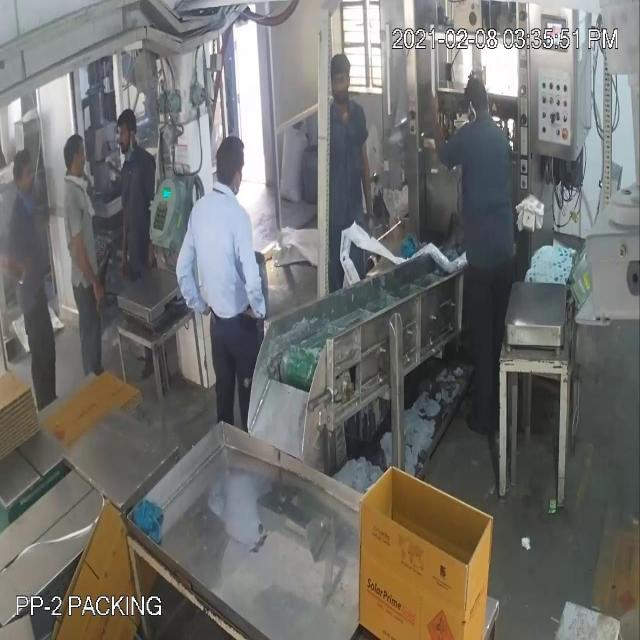No_Gloves: (20, 69, 446, 284)
